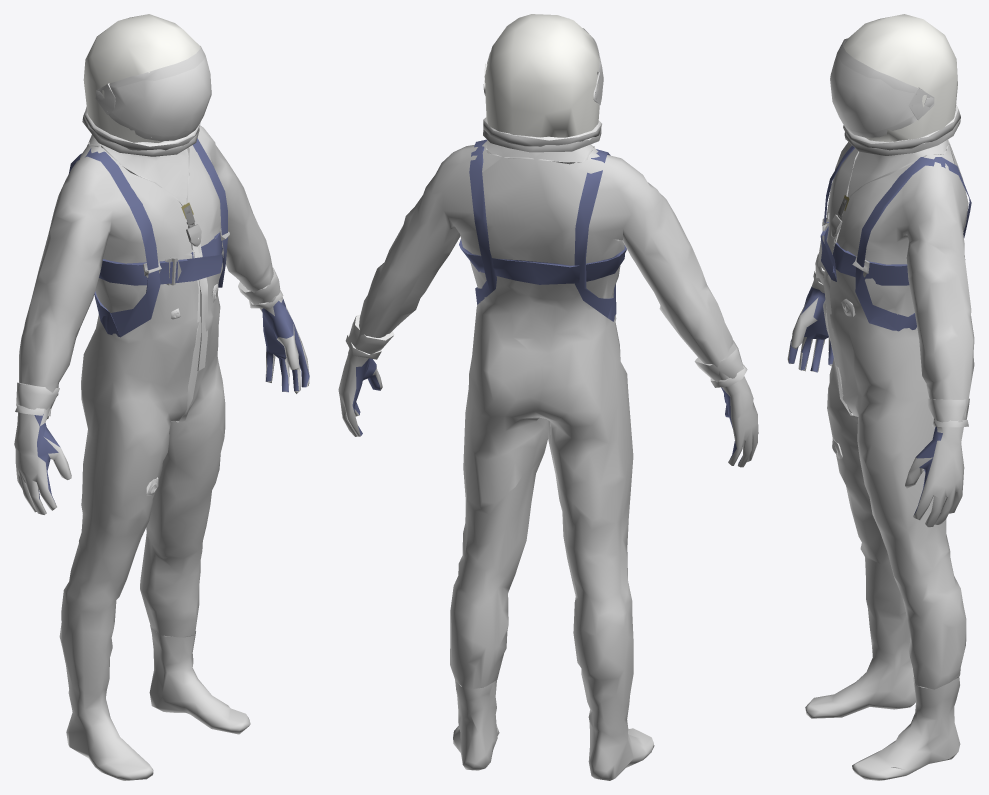
Rendered from mercury_suit_lod2.glb.
3 renders of one model, left to right at view 1: azimuth 30°, elevation 25°; view 2: azimuth 150°, elevation 25°; view 3: azimuth 270°, elevation 25°, orthographic. The views are drawn at different scales.
Visible parts, largest first — view 1: mercury_suit_lod2; view 2: mercury_suit_lod2; view 3: mercury_suit_lod2.
Part boxes in pixels (<box>): mercury_suit_lod2: <box>14,14,309,780</box>; mercury_suit_lod2: <box>338,14,758,780</box>; mercury_suit_lod2: <box>787,14,974,780</box>.
Bounding box in the file's own units: 0.995 × 2 × 0.4728.
